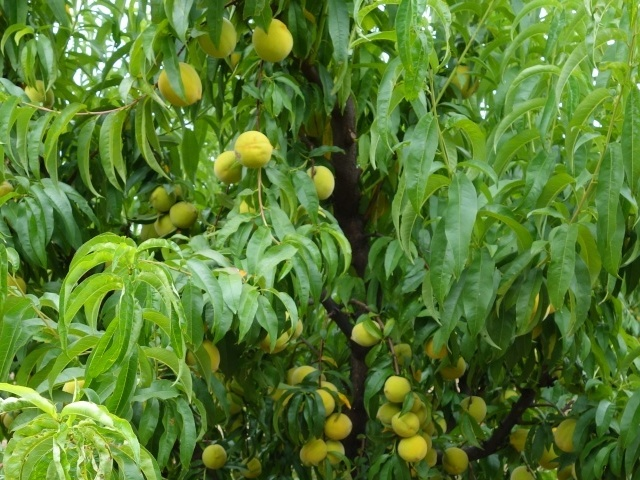peach: (154, 59, 208, 110), (248, 16, 297, 64), (230, 127, 278, 171), (195, 15, 241, 60), (185, 338, 223, 380), (445, 61, 482, 103), (301, 163, 338, 203), (210, 148, 247, 186), (21, 75, 59, 112), (552, 417, 588, 456), (395, 432, 431, 467), (348, 315, 386, 348), (322, 408, 357, 443), (293, 434, 329, 467), (378, 372, 414, 404), (456, 393, 490, 426), (311, 380, 341, 417), (388, 409, 423, 440), (287, 363, 321, 394), (166, 199, 201, 229), (258, 327, 292, 357), (439, 446, 471, 477), (146, 184, 179, 213), (436, 354, 469, 383), (374, 399, 404, 429), (419, 331, 449, 361), (197, 443, 228, 472), (149, 211, 179, 240), (507, 425, 535, 455), (319, 438, 348, 466), (235, 454, 266, 479), (389, 341, 414, 367)
